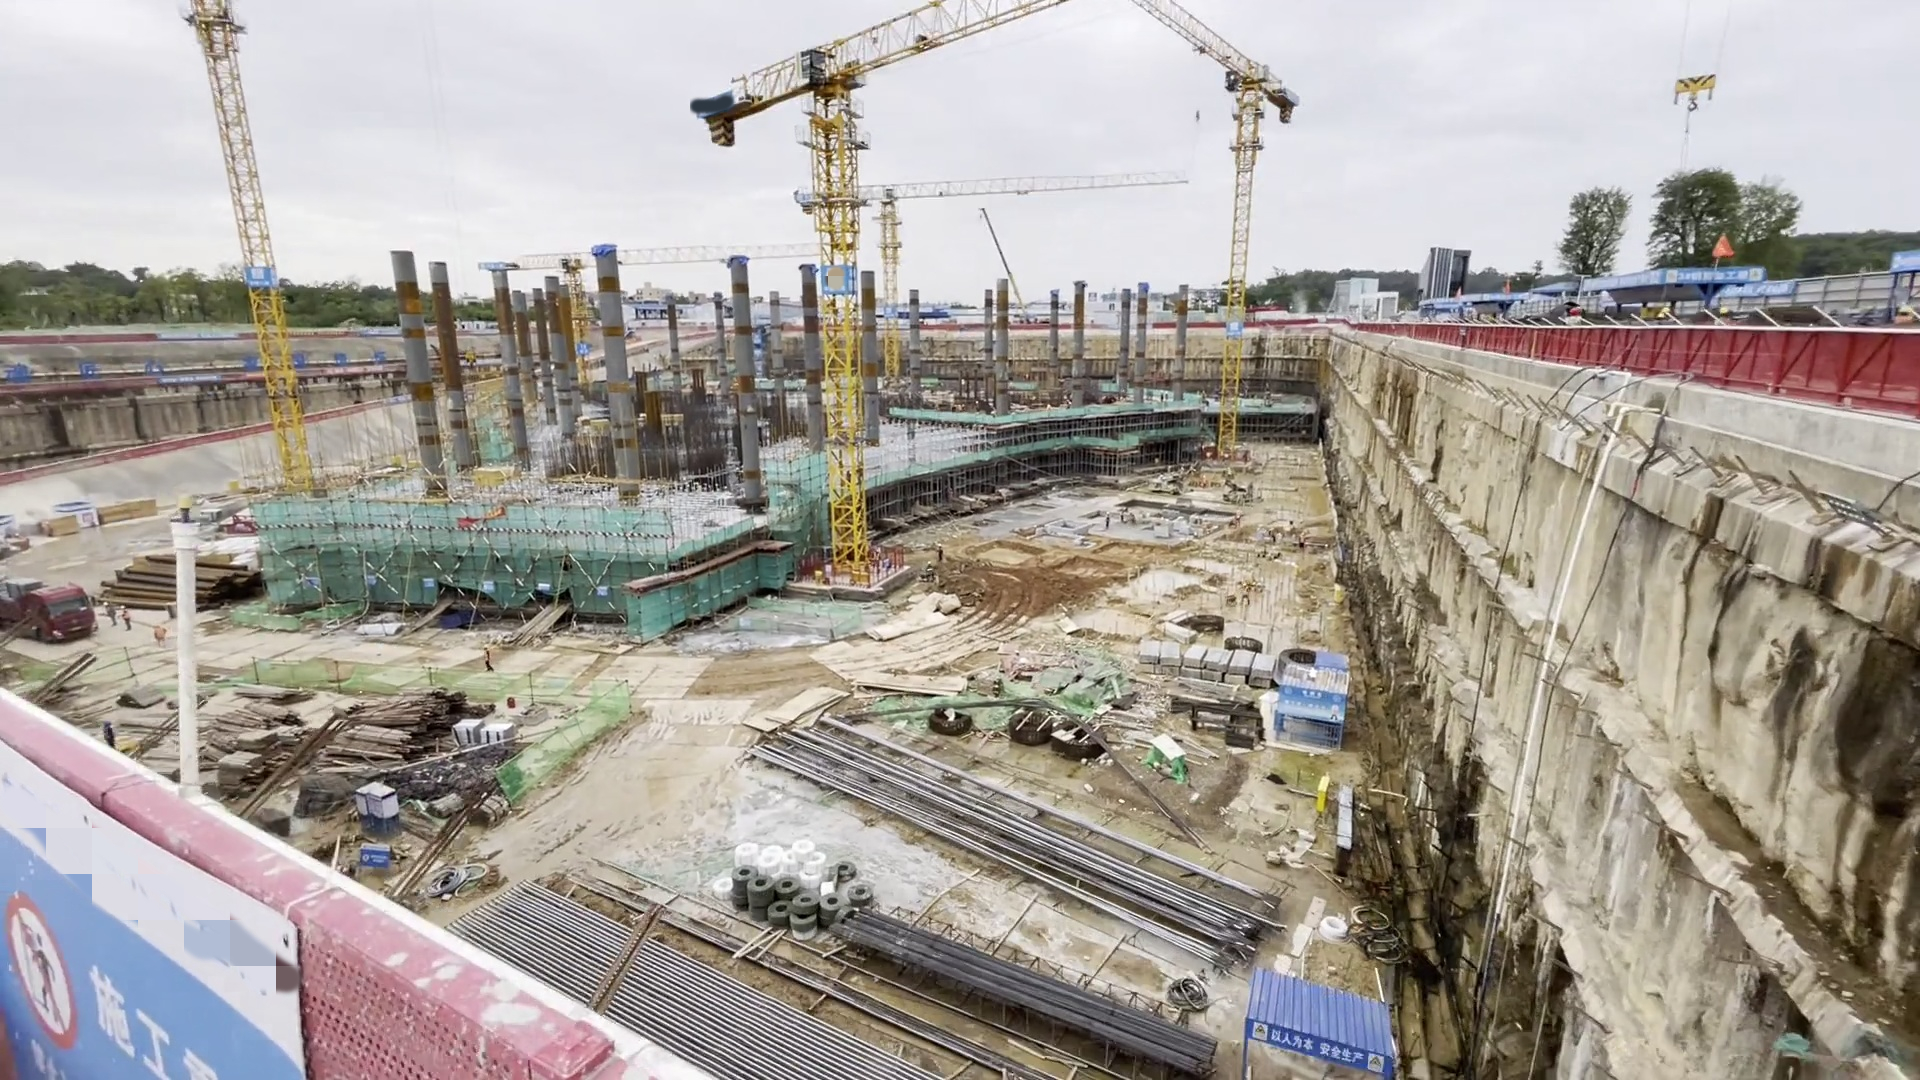brick: (1139, 632, 1282, 696), (458, 720, 525, 757)
ebox: (850, 570, 874, 589)
fence: (1630, 313, 1920, 405)
helmet: (927, 561, 932, 567), (103, 601, 109, 606), (483, 645, 489, 649), (121, 605, 127, 609), (938, 543, 943, 546)
hook: (1674, 72, 1717, 113)
person: (480, 642, 498, 675), (118, 603, 135, 633), (151, 618, 169, 648), (935, 540, 948, 567), (103, 601, 116, 626), (923, 559, 936, 583), (1102, 509, 1112, 529)
rebar: (841, 911, 1233, 1080)
slogan: (18, 877, 301, 1080), (11, 348, 423, 384), (1259, 1021, 1384, 1080)
vest: (155, 628, 166, 639), (105, 606, 116, 618), (926, 566, 935, 578), (122, 610, 130, 622), (485, 650, 492, 663), (938, 548, 943, 557)
wood: (337, 677, 451, 763)
